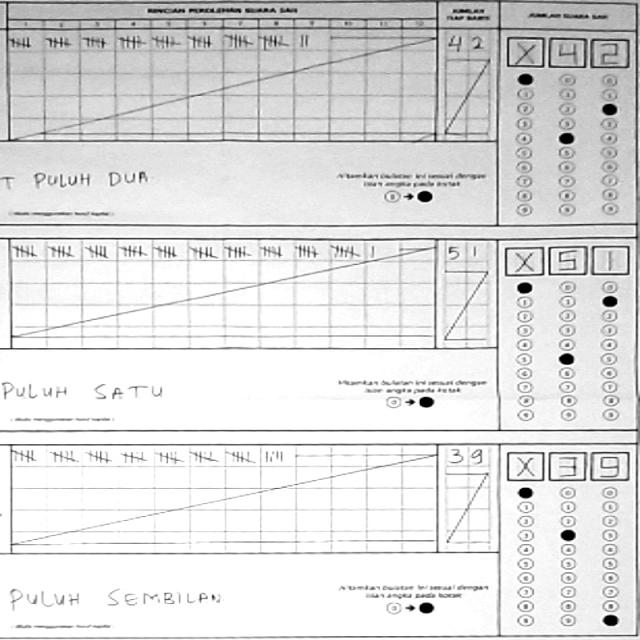Suara: (504, 26, 628, 70), (502, 240, 628, 278), (497, 445, 631, 478)
